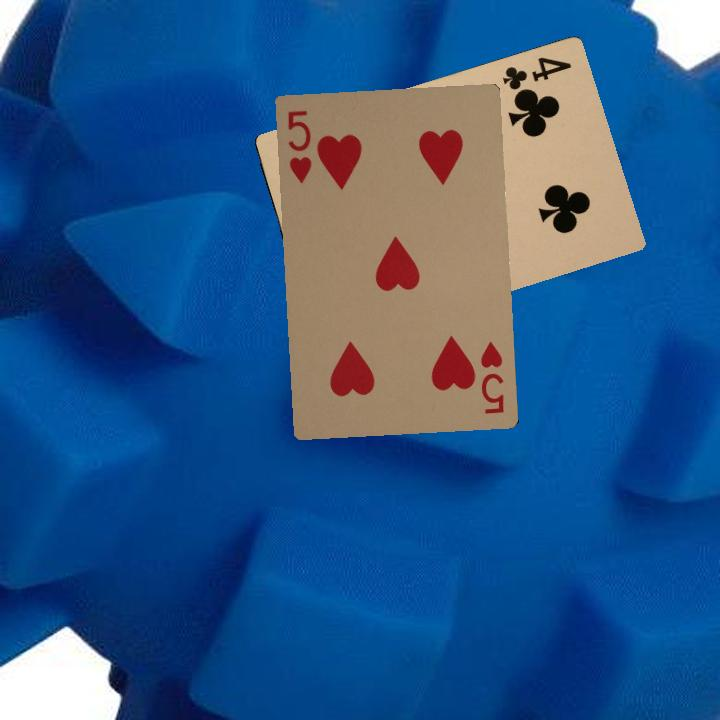4c: (498, 53, 574, 98)
5h: (476, 337, 507, 417), (283, 106, 314, 186)
